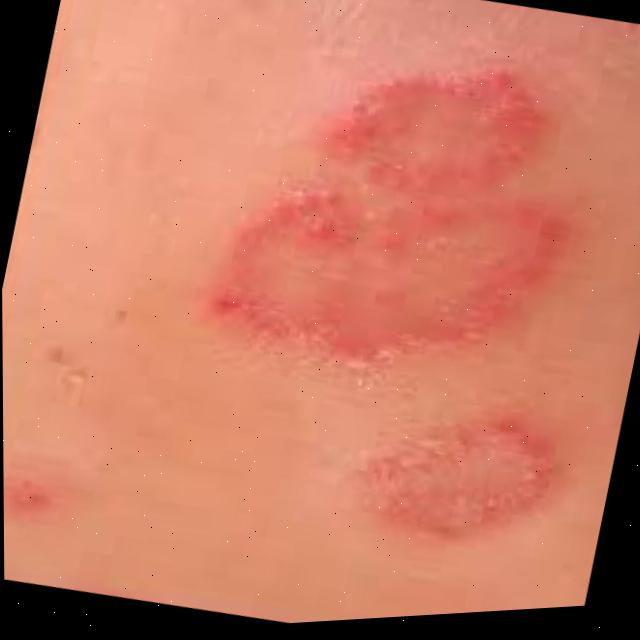Eczema: (197, 40, 614, 572)
